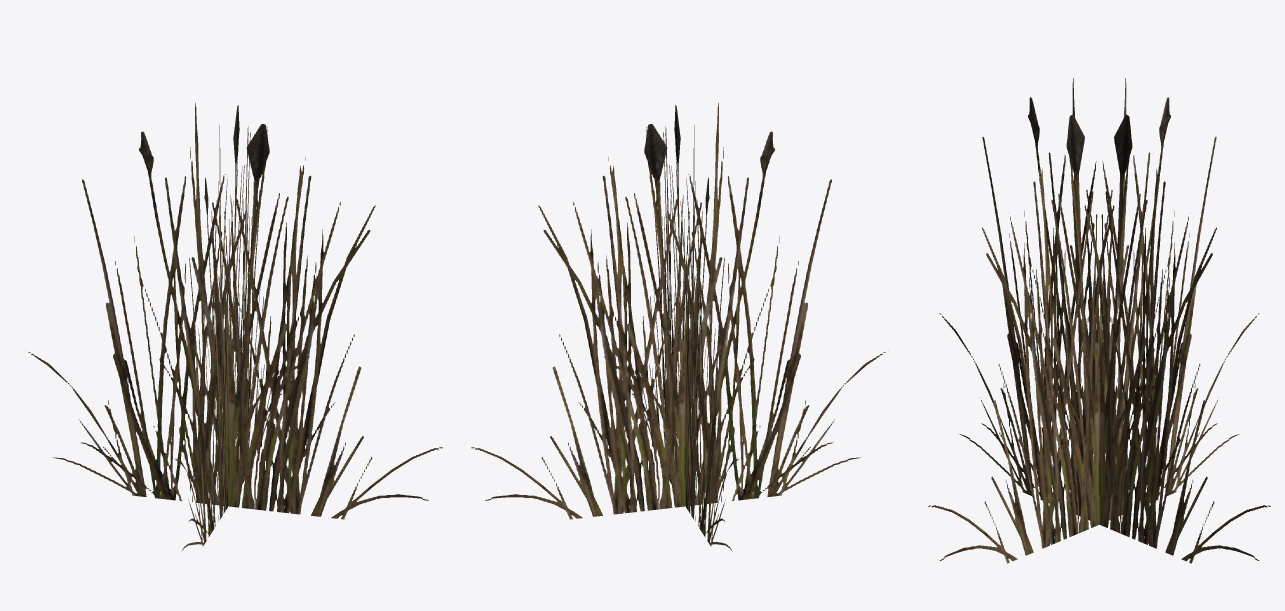
File: Grass_Large.fbx
3 renders of one model, left to right at view 1: azimuth 30°, elevation 25°; view 2: azimuth 150°, elevation 25°; view 3: azimuth 270°, elevation 25°, orthographic. The views are drawn at different scales.
Parts seen in each view (by area): view 1: Grama3; view 2: Grama3; view 3: Grama3.
Boxes of the visible parts, left/top/right/bottom form: Grama3: left=25, top=103, right=442, bottom=551; Grama3: left=471, top=103, right=888, bottom=551; Grama3: left=928, top=78, right=1270, bottom=563.
Size of the model in its own units: 79.55 by 112 by 79.55.
